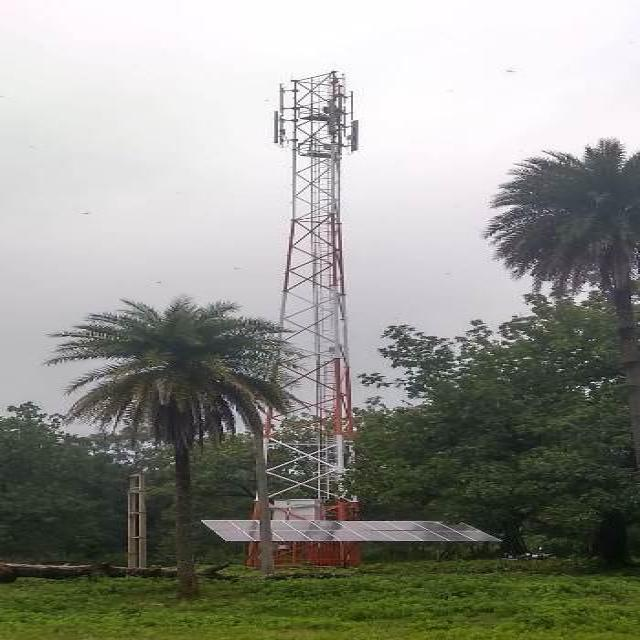GSM Antenna: (261, 100, 296, 152), (338, 109, 368, 158)
